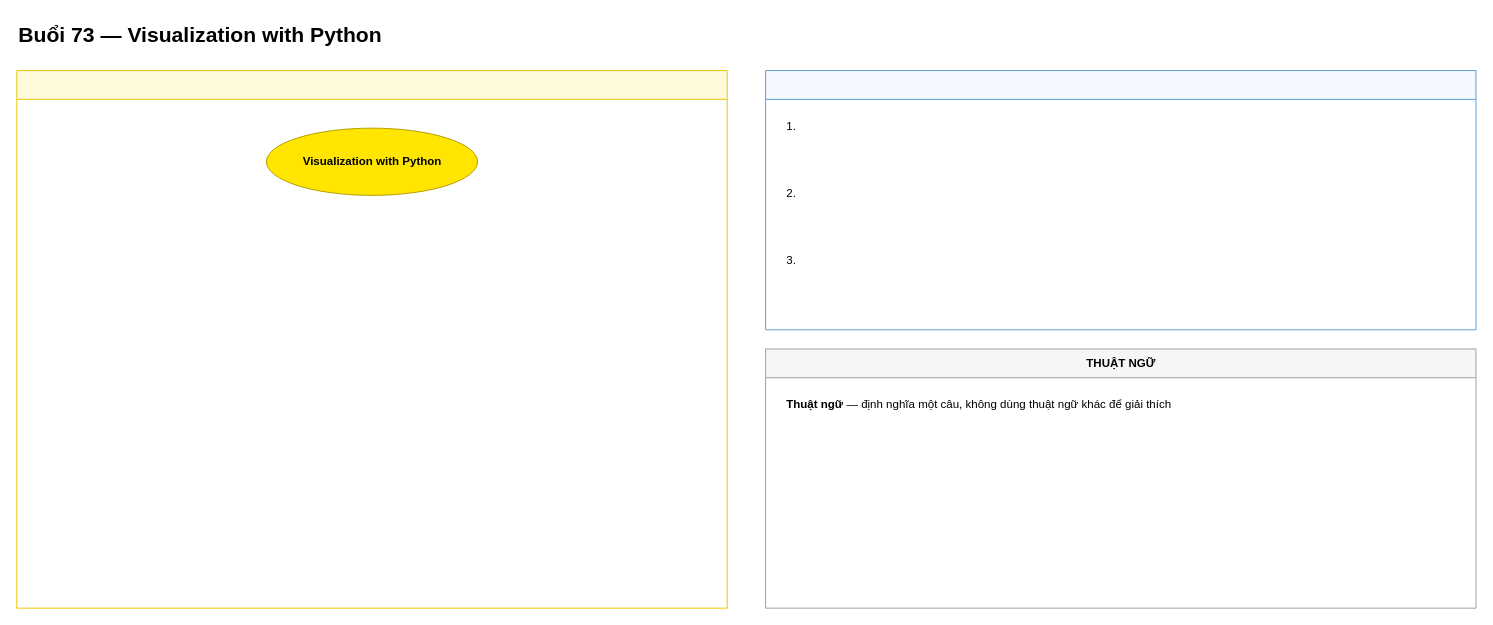
This 1493x625 diagram has some shape labels left out. Each missing label, with the box of its shape:
KEY TAKEAWAY — ba điều phải nhớ: (765, 70, 1476, 330)
MINDMAP: (16, 70, 727, 608)
